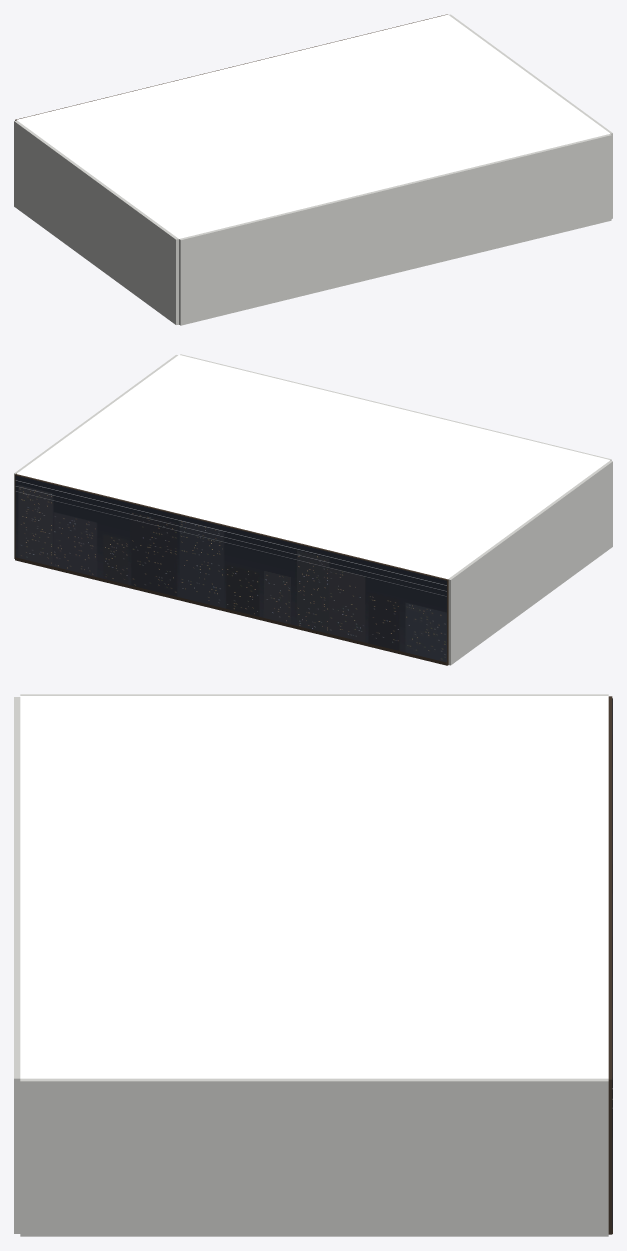
File: ambiente.glb
3 views of the same model, one above another, from view 1: azimuth 30°, elevation 25°; view 2: azimuth 150°, elevation 25°; view 3: azimuth 270°, elevation 25° (orthographic). The views are drawn at different scales.
Visible parts, largest first — view 1: ambiente; view 2: ambiente; view 3: ambiente.
Boxes of the visible parts, x1,y1,x2,y2 form: ambiente: [14, 14, 612, 325]; ambiente: [14, 354, 612, 665]; ambiente: [14, 694, 612, 1236].
Size of the model in its own units: 14.7 by 2.79 by 9.62.
21 materials, 3 textured.
